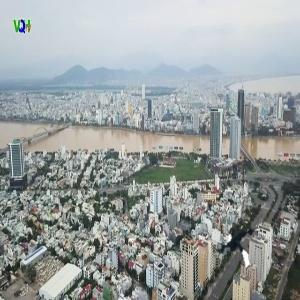drone: (210, 221, 268, 279)
